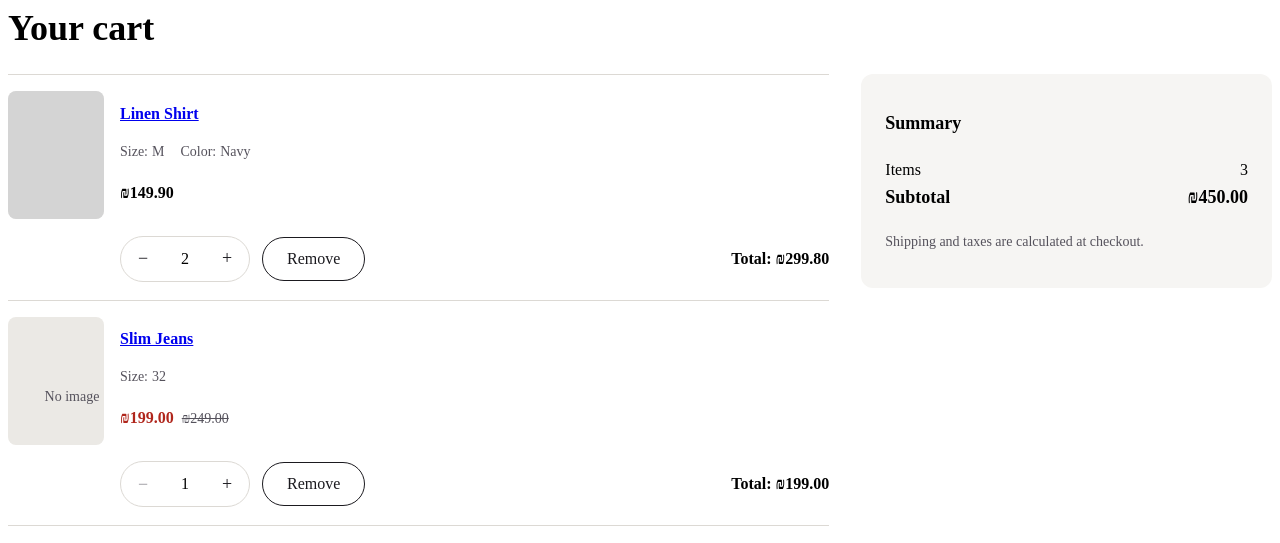
Scenario: CartPage › drops the expired cart and shows the empty state when a removal returns CART_NOT_FOUND
This screenshot has width=1280, height=543.
Expected: the list named "Cart items" is shown, [8,74,829,526]
Step 1. Click the button with aria-label "Remove Linen Shirt" → (314, 259), box [262,237,365,281]
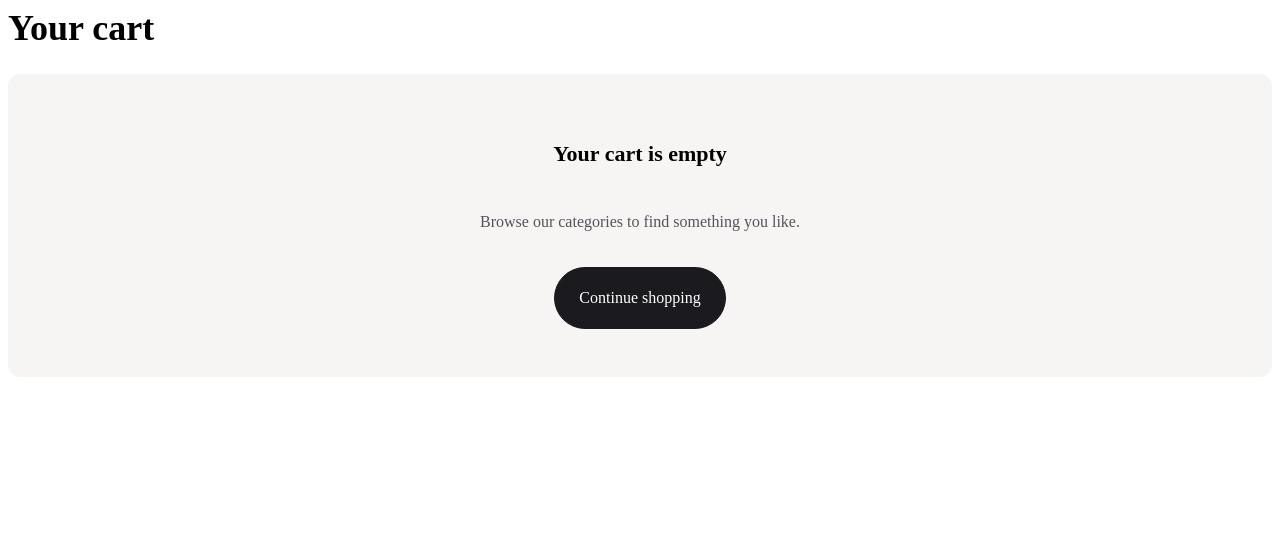
Expected: the heading "Your cart is empty" is shown, [553,141,727,167]
